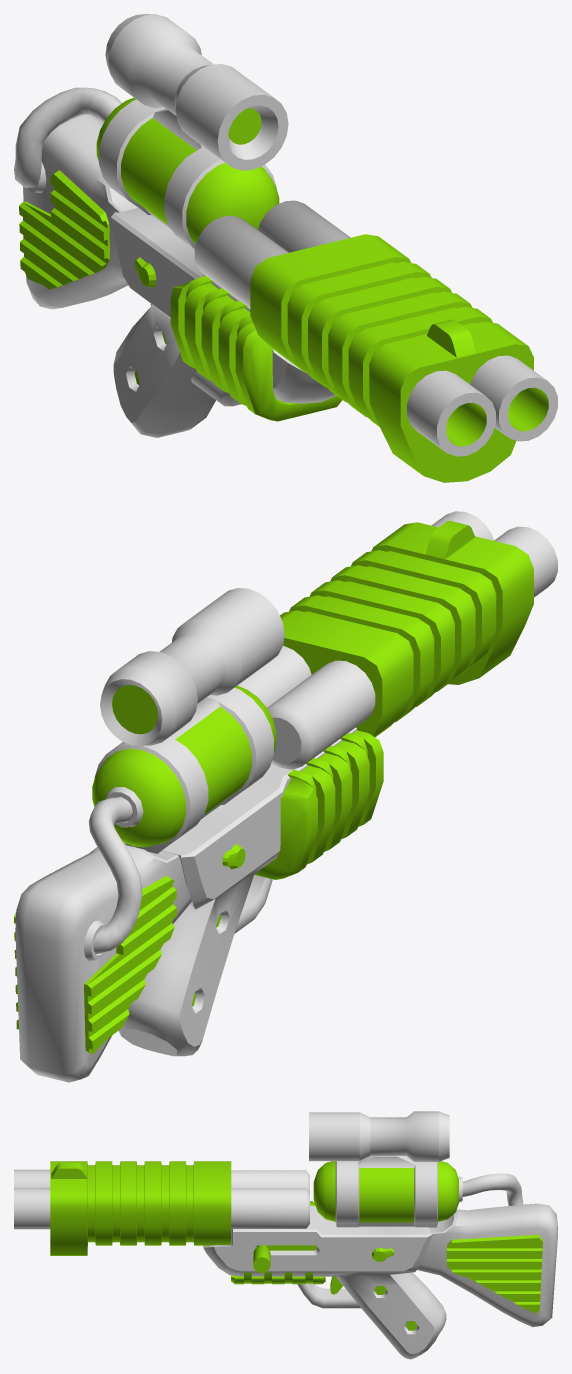
Rendered from Rifle D Mat.fbx.
3 views of the same model, one above another, from view 1: azimuth 30°, elevation 25°; view 2: azimuth 150°, elevation 25°; view 3: azimuth 270°, elevation 25° (orthographic). The views are drawn at different scales.
Visible parts, largest first — view 1: Rifle D Mat, Rifle D Mat.001, Rifle D Mat.002; view 2: Rifle D Mat, Rifle D Mat.002, Rifle D Mat.001; view 3: Rifle D Mat, Rifle D Mat.002, Rifle D Mat.001.
Boxes of the visible parts, left/top/right/bottom form: Rifle D Mat: left=19, top=114, right=557, bottom=456; Rifle D Mat.001: left=250, top=234, right=533, bottom=482; Rifle D Mat.002: left=14, top=14, right=288, bottom=248; Rifle D Mat: left=14, top=511, right=557, bottom=1082; Rifle D Mat.002: left=88, top=588, right=284, bottom=953; Rifle D Mat.001: left=280, top=520, right=533, bottom=737; Rifle D Mat: left=14, top=1169, right=557, bottom=1359; Rifle D Mat.002: left=309, top=1111, right=523, bottom=1227; Rifle D Mat.001: left=50, top=1161, right=231, bottom=1255.
Size of the model in its own units: 0.2349 by 0.5363 by 1.1.
